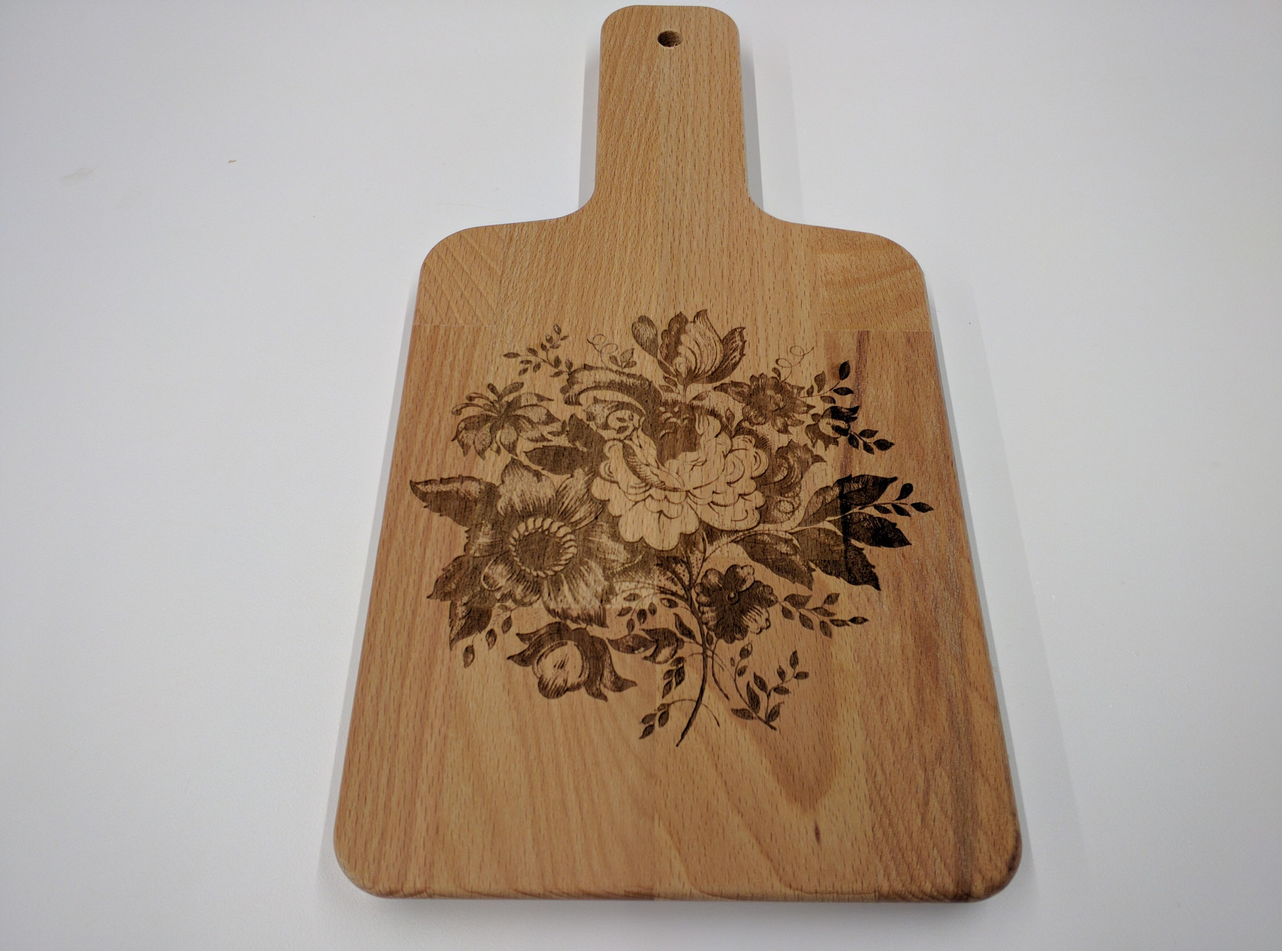gloved_hand: (303, 4, 1044, 935)
